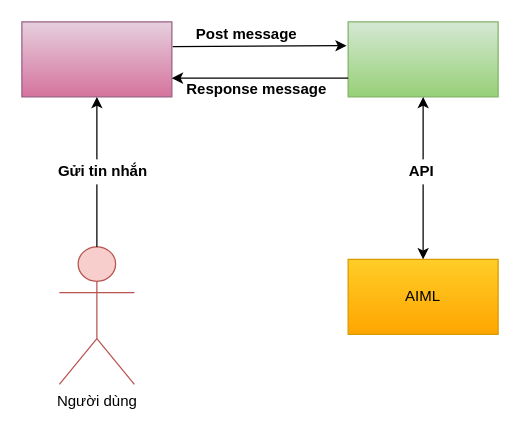
This 520x433 diagram has some shape labels left out. Each missing label, with the centre of its shape:
Chatbot server (SpringBoot): the point at 422,59
Website (Angular): the point at 96,59
